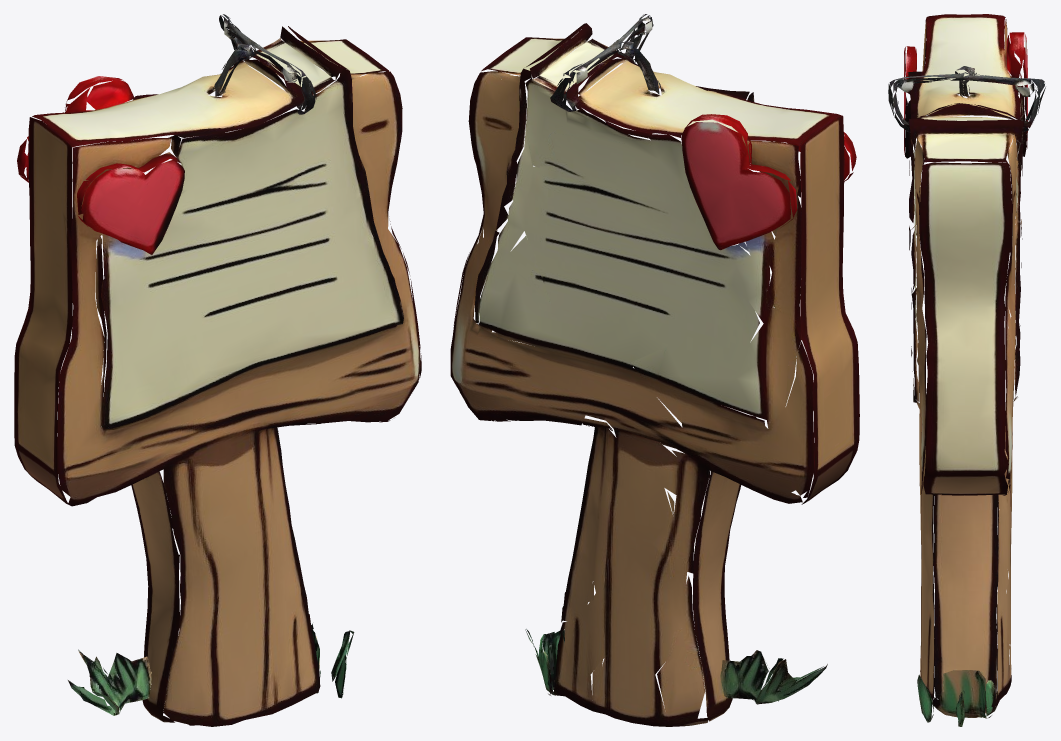
The model's file is tesekkur_notu.glb.
The picture shows the model from 3 angles, left to right: view 1: azimuth 30°, elevation 25°; view 2: azimuth 150°, elevation 25°; view 3: azimuth 270°, elevation 25°; orthographic projection. The views are drawn at different scales.
Visible parts, largest first — view 1: geometry_0; view 2: geometry_0; view 3: geometry_0.
Part boxes in pixels (box(x1,y1,x2,y2)): geometry_0: box(14, 14, 421, 726); geometry_0: box(450, 14, 859, 726); geometry_0: box(888, 14, 1045, 726).
Bounding box in the file's own units: 0.5809 × 0.9958 × 0.2303.
Materials: 1 (1 with a texture image).
